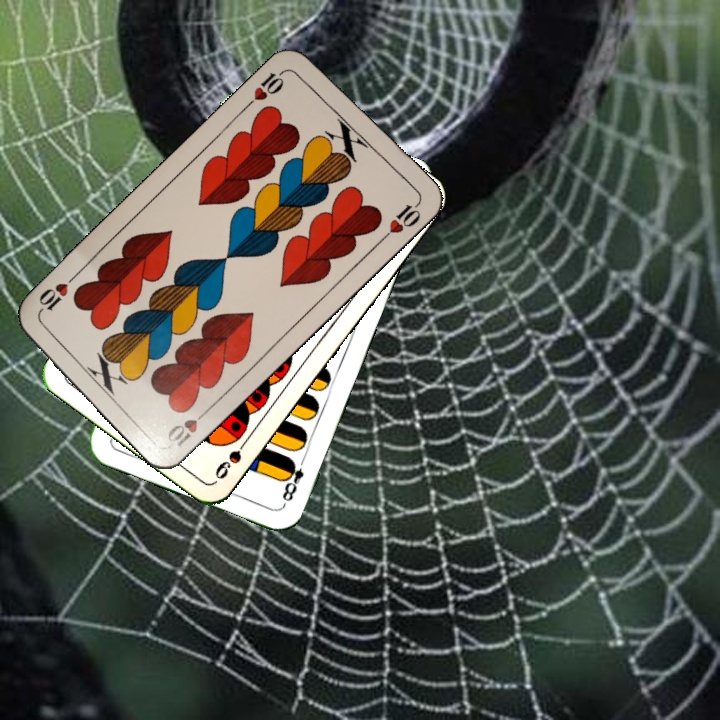E8: (278, 452, 309, 508)
H10: (161, 403, 214, 452), (242, 65, 289, 110)
S9: (210, 431, 253, 483)
